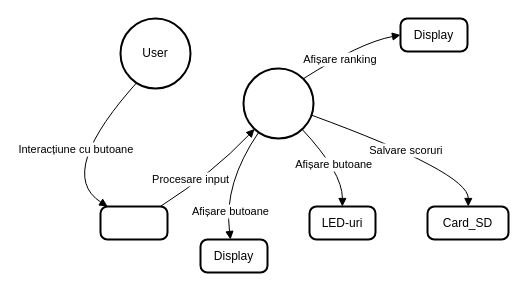
Some shapes in this 526 by 290 pixel diagram are drawn without their labels. Here are the shapes that lost their labels. From the top down, the centre of each, then its label:
At pixel 278 103: "Arduino".
At pixel 133 222: "Butoane".
